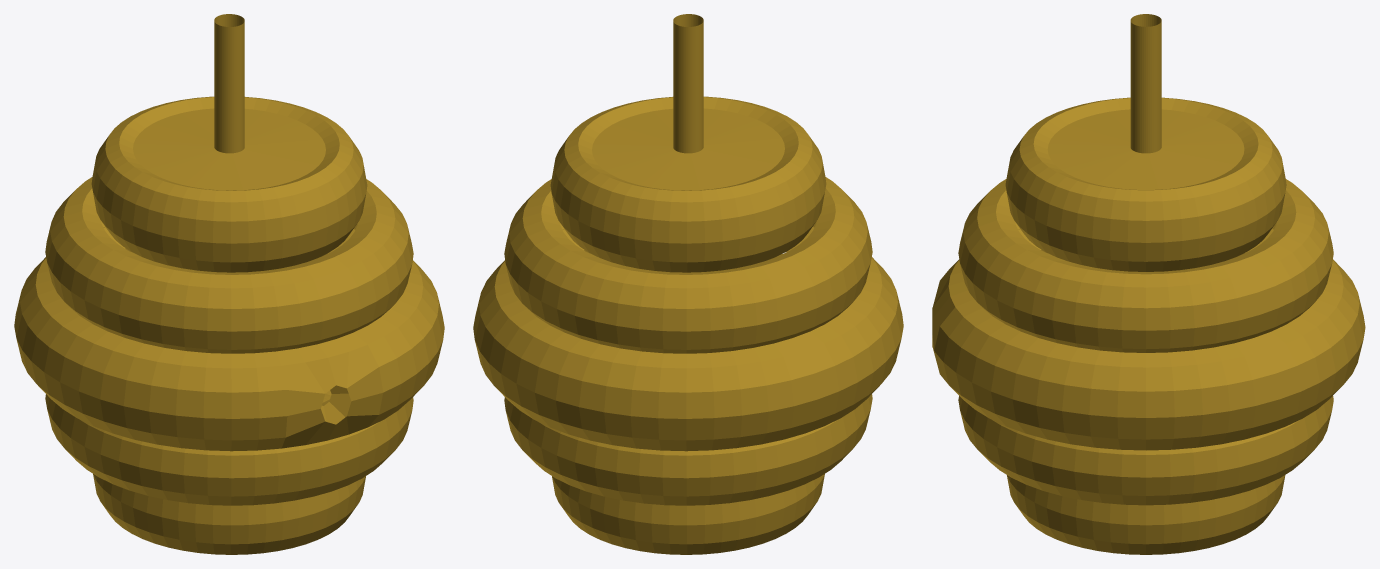
File: bee hive.glb
The picture shows the model from 3 angles, left to right: view 1: azimuth 30°, elevation 25°; view 2: azimuth 150°, elevation 25°; view 3: azimuth 270°, elevation 25°; orthographic projection.
Parts seen in each view (by area): view 1: bee hive; view 2: bee hive; view 3: bee hive.
Boxes of the visible parts, x1,y1,x2,y2 form: bee hive: [14, 14, 444, 554]; bee hive: [473, 14, 903, 554]; bee hive: [932, 14, 1365, 554].
Bounding box in the file's own units: 2.44 × 3.07 × 2.47.
Materials: 1 (1 with a texture image).
